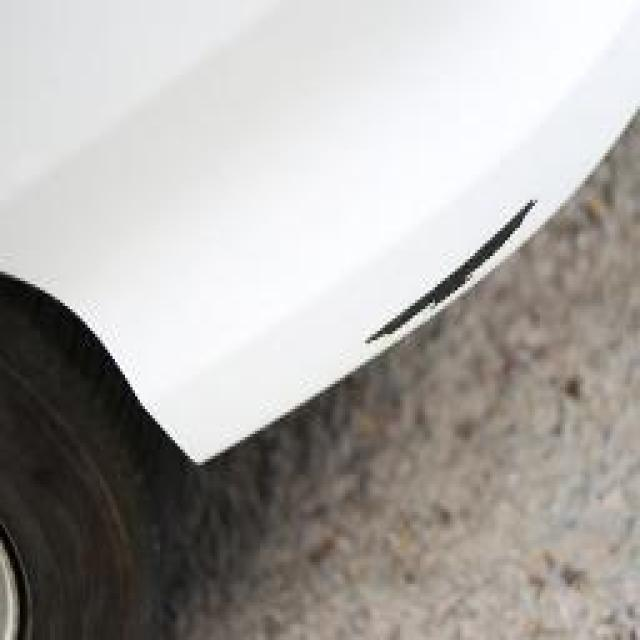Fender: (255, 153, 600, 400)
